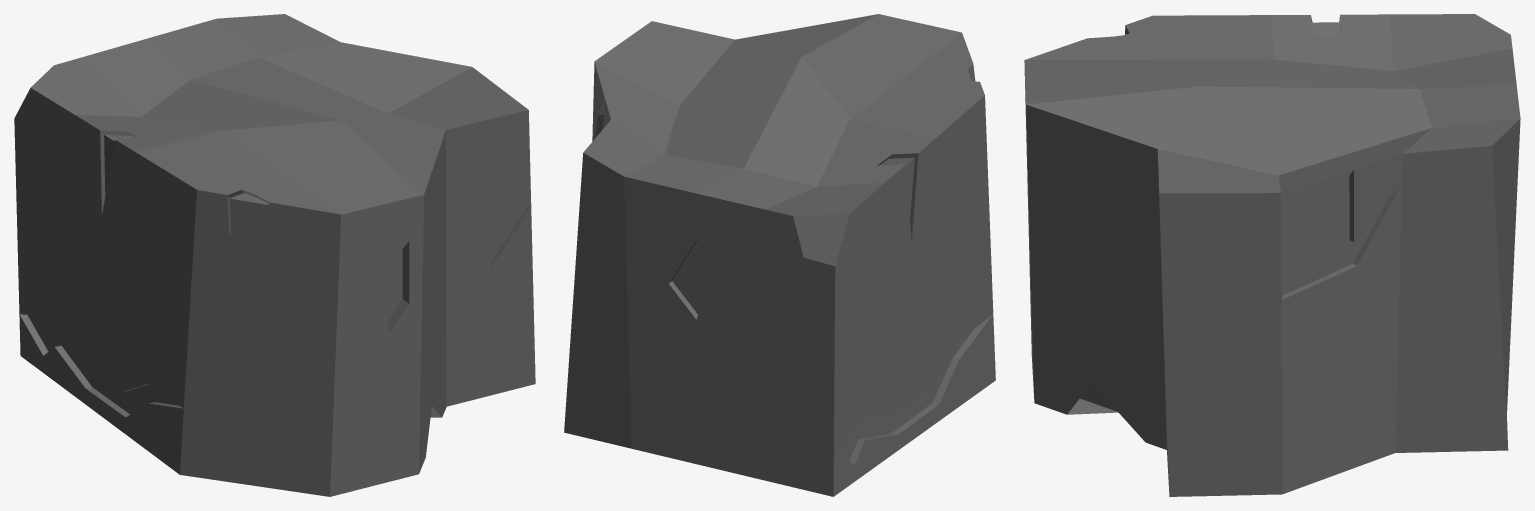
The model's file is rock_6b_001.fbx.
3 views of the same model, side by side, from view 1: azimuth 30°, elevation 25°; view 2: azimuth 150°, elevation 25°; view 3: azimuth 270°, elevation 25° (orthographic). The views are drawn at different scales.
Parts seen in each view (by area): view 1: rock_6b.001; view 2: rock_6b.001; view 3: rock_6b.001.
Boxes of the visible parts, bbox=[...] form: rock_6b.001: bbox=[14, 14, 535, 496]; rock_6b.001: bbox=[564, 14, 995, 496]; rock_6b.001: bbox=[1024, 14, 1520, 496].
Bounding box in the file's own units: 589 × 464 × 659.
